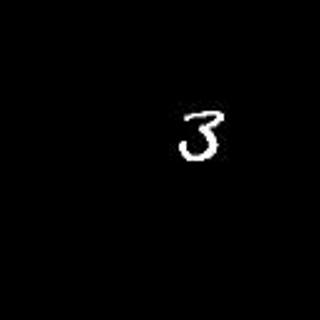three: (178, 107, 229, 162)
